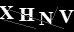H: (17, 7, 37, 22)
N: (37, 11, 54, 26)
V: (57, 9, 74, 24)
X: (1, 4, 14, 20)
